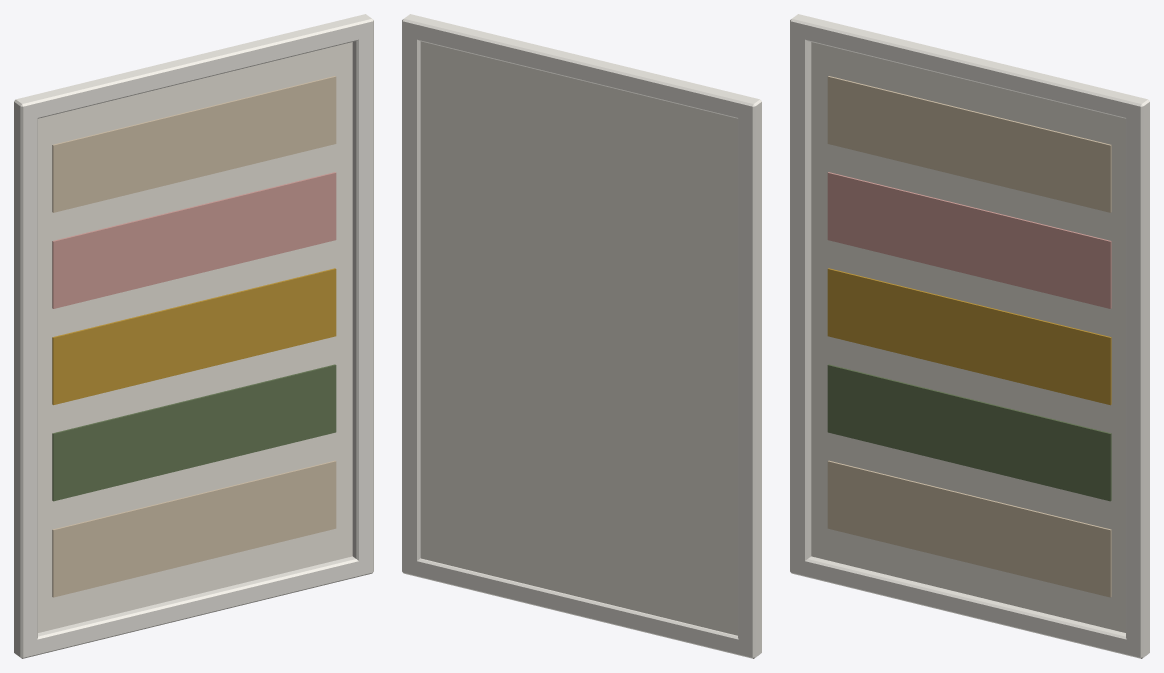
The model's file is i_pic_3.glb.
The picture shows the model from 3 angles, left to right: view 1: azimuth 30°, elevation 25°; view 2: azimuth 150°, elevation 25°; view 3: azimuth 330°, elevation 25°; orthographic projection.
Parts seen in each view (by area): view 1: o.004, o.005, o.007, o.006, o.008, o.009, o.002, o.003, o.001, o; view 2: o.004, o.002, o.003, o.001, o; view 3: o.004, o.005, o.007, o.006, o.008, o.009, o.003, o.002, o.001, o.
Part boxes in pixels (box(x1,y1,x2,y2)): o.004: box(38, 42, 352, 632); o.005: box(52, 460, 336, 597); o.007: box(52, 268, 336, 405); o.006: box(52, 364, 336, 501); o.008: box(52, 172, 336, 308); o.009: box(52, 76, 336, 212); o.002: box(14, 102, 37, 658); o.003: box(352, 20, 373, 574); o.001: box(14, 14, 373, 121); o: box(14, 556, 373, 658); o.004: box(420, 41, 737, 635); o.002: box(738, 102, 761, 658); o.003: box(402, 24, 420, 574); o.001: box(402, 14, 761, 121); o: box(402, 557, 761, 658); o.004: box(811, 42, 1125, 632); o.005: box(827, 460, 1111, 597); o.007: box(827, 268, 1111, 405); o.006: box(827, 364, 1111, 501); o.008: box(827, 172, 1111, 308); o.009: box(827, 76, 1111, 212); o.003: box(1126, 102, 1149, 658); o.002: box(790, 24, 811, 574); o.001: box(790, 14, 1149, 121); o: box(790, 556, 1149, 658).
Size of the model in its own units: 0.6 by 0.9 by 0.025.
